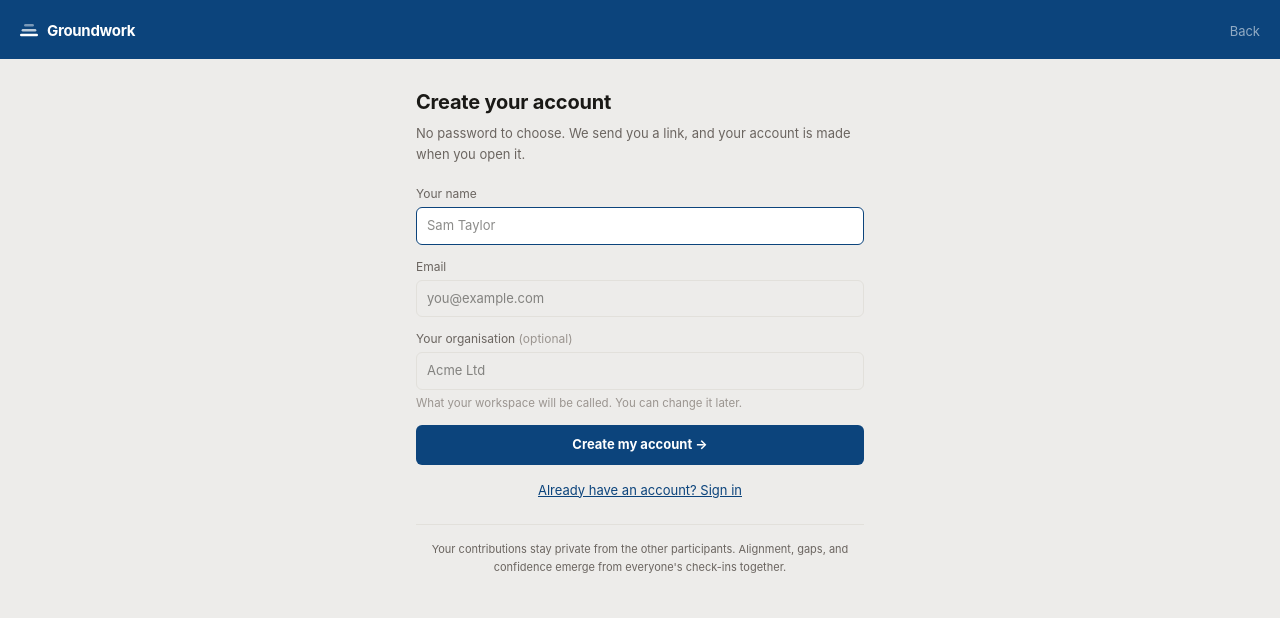
Scenario: a failure is not a success › but an address that already has an account is told plainly
This screenshot has width=1280, height=618.
Type "sam@acme.test" into the field labelled "Email". click: (640, 299)
box: [416,280,864,317]
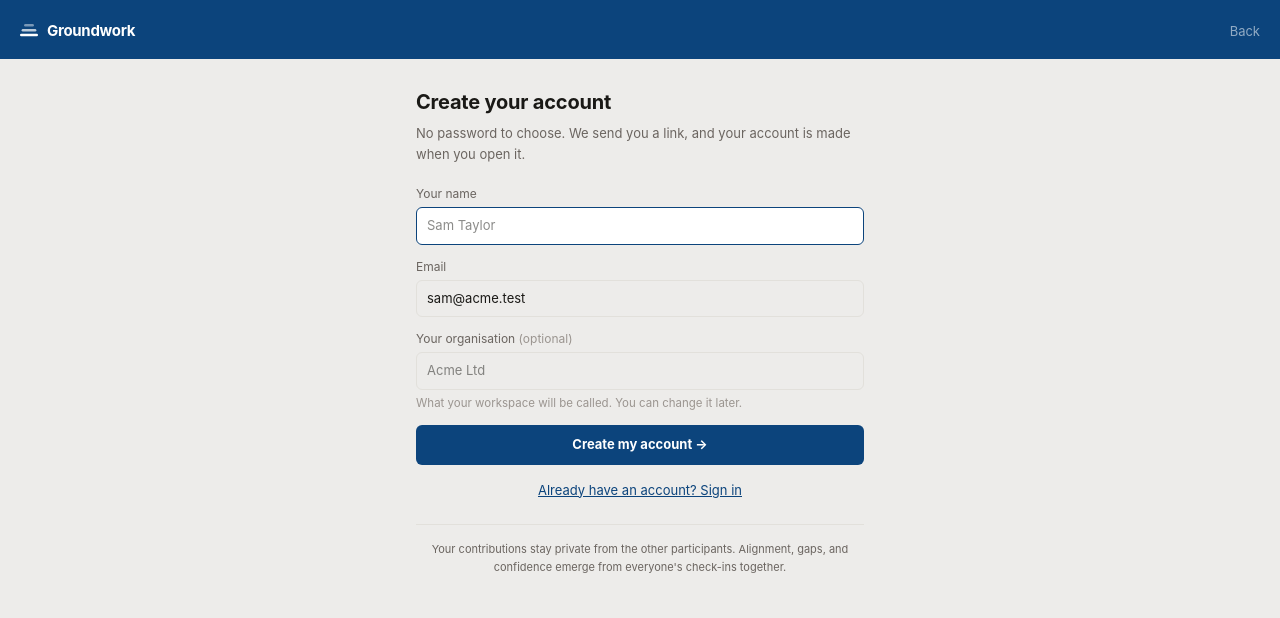
Click the button "Create my account →". click: (640, 445)
box: [416,425,864,465]
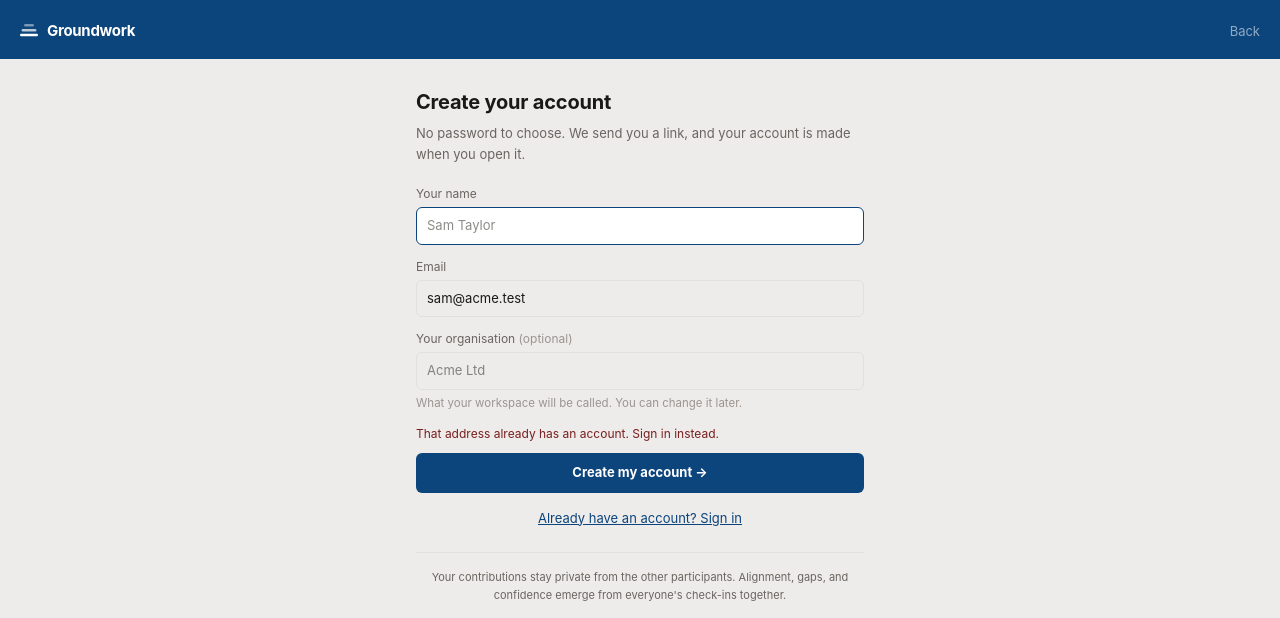
Now the text "That address already has an account. Sign in instead." is shown, box [416,426,719,441]
